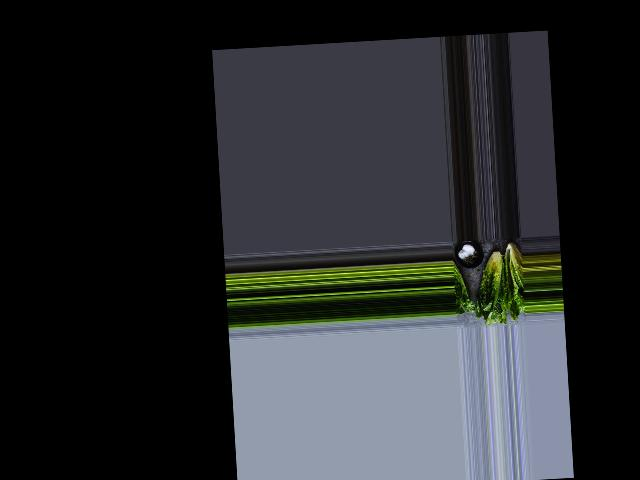lettuce: (500, 237, 525, 314)
